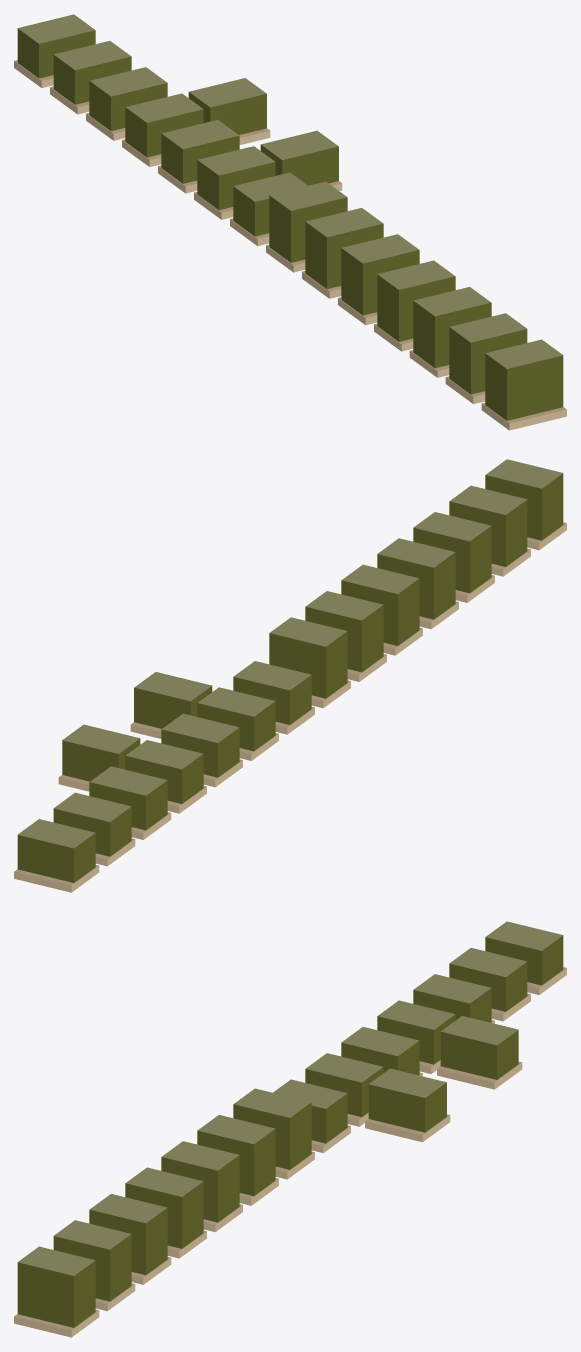
The model's file is SM_CargaMunicion_Mitad_LOD1.fbx.
3 views of the same model, one above another, from view 1: azimuth 30°, elevation 25°; view 2: azimuth 150°, elevation 25°; view 3: azimuth 330°, elevation 25° (orthographic).
Parts seen in each view (by area): view 1: SM_carga_vagon_v1_LOD1; view 2: SM_carga_vagon_v1_LOD1; view 3: SM_carga_vagon_v1_LOD1.
Boxes of the visible parts, x1,y1,x2,y2 form: SM_carga_vagon_v1_LOD1: [14, 14, 566, 430]; SM_carga_vagon_v1_LOD1: [14, 459, 566, 892]; SM_carga_vagon_v1_LOD1: [14, 921, 566, 1337].
Bounding box in the file's own units: 2.52 × 1.18 × 17.9.
